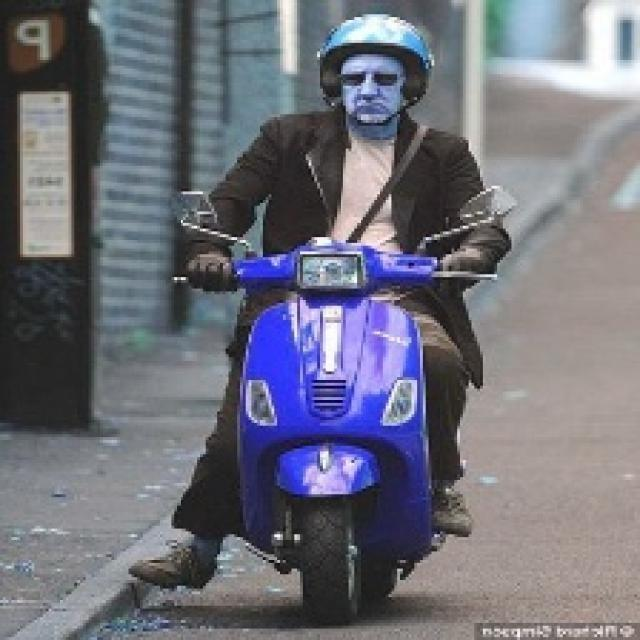Motorcycle: (215, 238, 454, 622)
